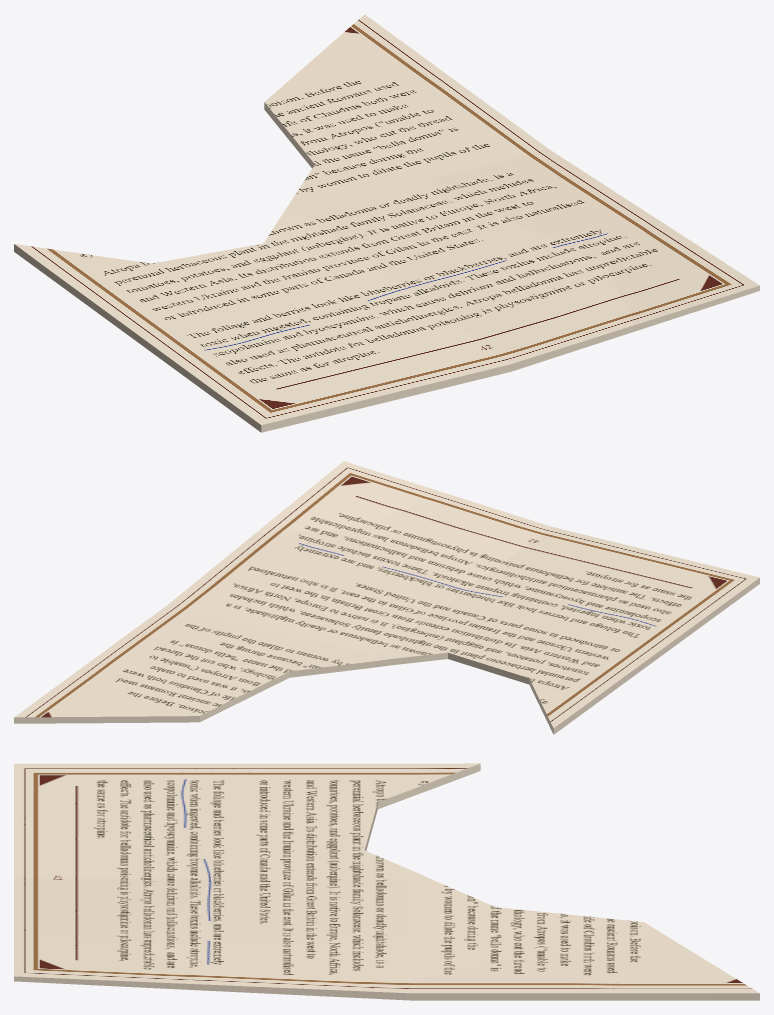
Rendered from scrap.fbx.
3 renders of one model, top to bottom at view 1: azimuth 30°, elevation 25°; view 2: azimuth 150°, elevation 25°; view 3: azimuth 270°, elevation 25°, orthographic. The views are drawn at different scales.
Visible parts, largest first — view 1: scrap_will_paper; view 2: scrap_will_paper; view 3: scrap_will_paper.
Boxes of the visible parts, x1=… form: scrap_will_paper: x1=14, y1=14, x2=759, y2=432; scrap_will_paper: x1=14, y1=461, x2=759, y2=734; scrap_will_paper: x1=14, y1=763, x2=759, y2=1000.
Bounding box in the file's own units: 0.8393 × 0.0467 × 1.15.
Materials: 1 (1 with a texture image).
